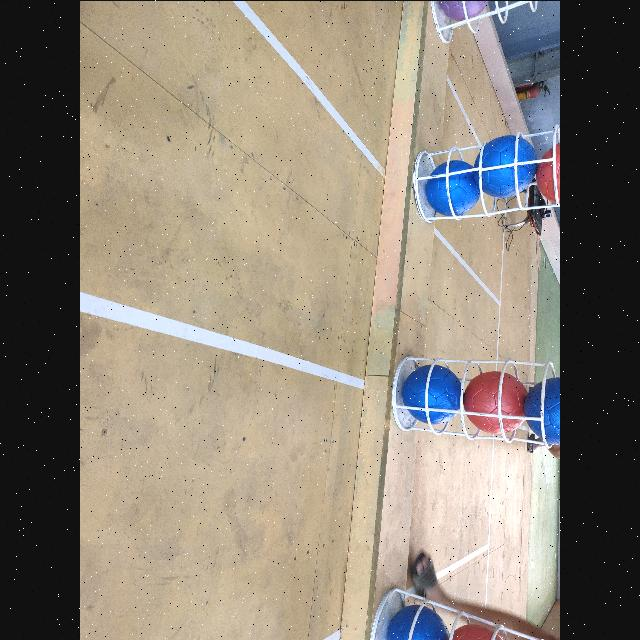B: (477, 135, 538, 197), (424, 158, 481, 214), (524, 377, 560, 445), (388, 604, 448, 640)
R: (463, 370, 527, 432), (536, 136, 560, 206), (446, 624, 514, 640)
